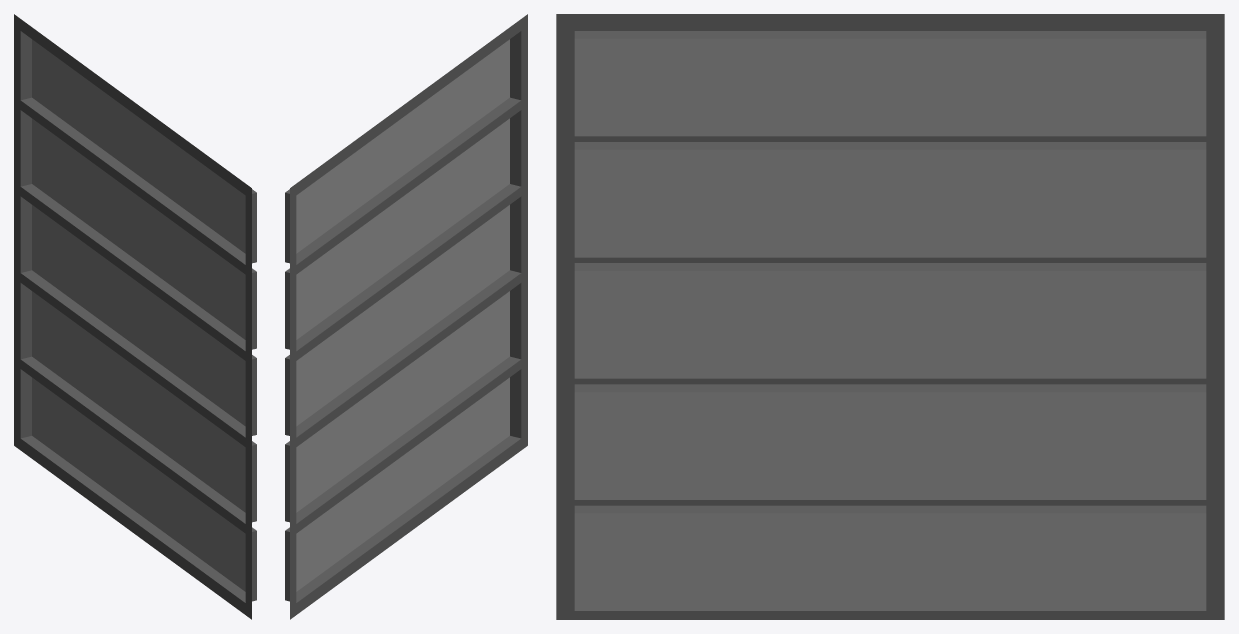
Rendered from Wall_34.FBX.
3 views of the same model, side by side, from view 1: azimuth 30°, elevation 25°; view 2: azimuth 150°, elevation 25°; view 3: azimuth 270°, elevation 25° (orthographic). The views are drawn at different scales.
Visible parts, largest first — view 1: Wall_34_LOD0; view 2: Wall_34_LOD0; view 3: Wall_34_LOD0.
Part boxes in pixels (box(x1,y1,x2,y2)): Wall_34_LOD0: box(14, 14, 256, 619); Wall_34_LOD0: box(285, 14, 527, 619); Wall_34_LOD0: box(556, 14, 1224, 619).
Size of what is drawn, in the model's own units: 5 by 180 by 180.
